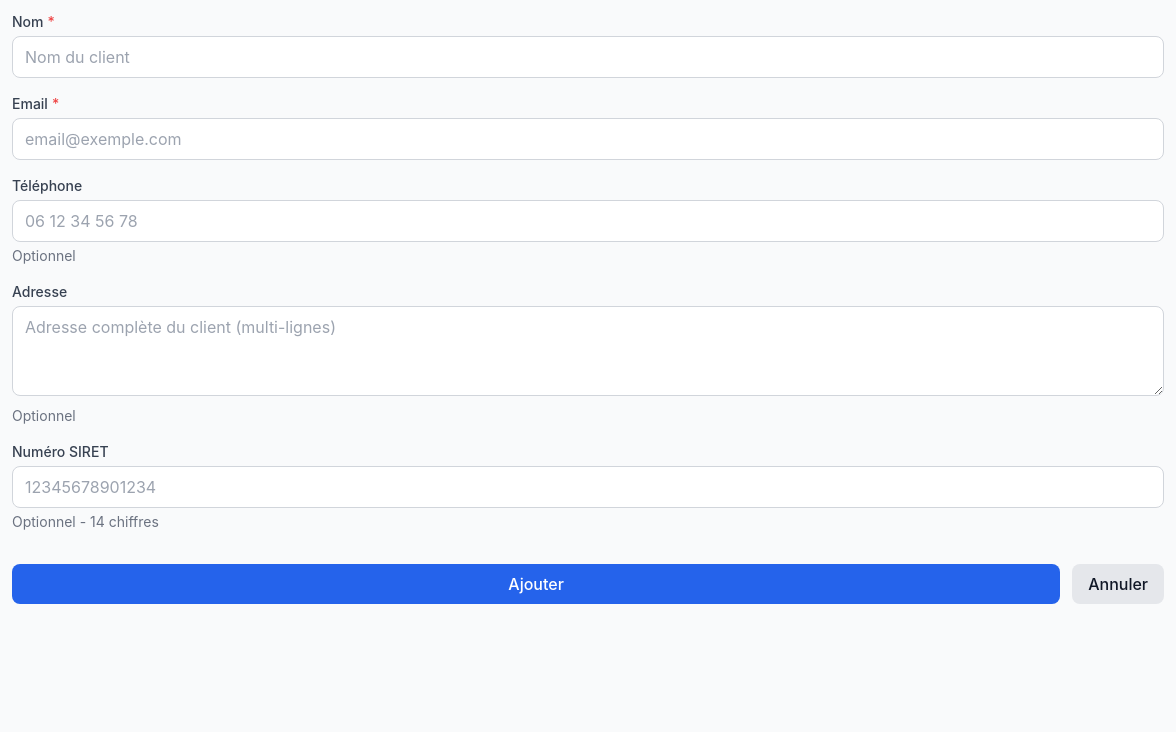
ClientForm › shows required error for empty email on submit
Type "Test Client" into the field with placeholder "Nom du client". click: (588, 57)
box: [12,36,1164,78]
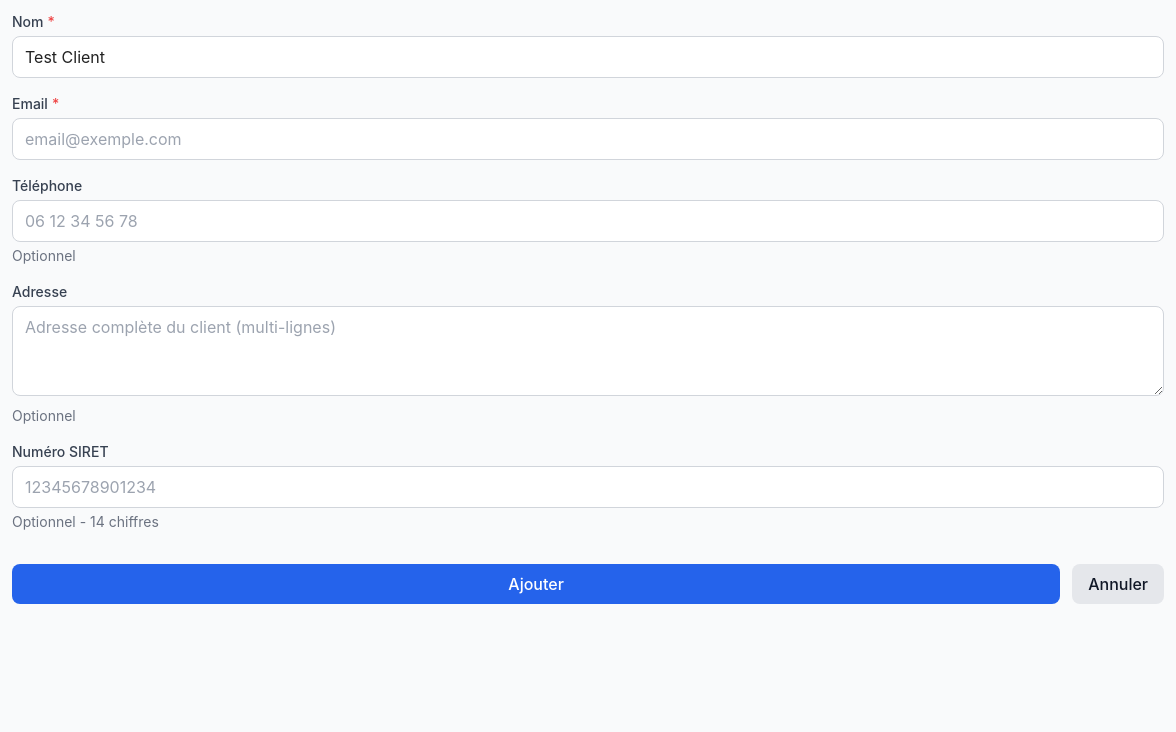
Submit the form named "Ajouter"
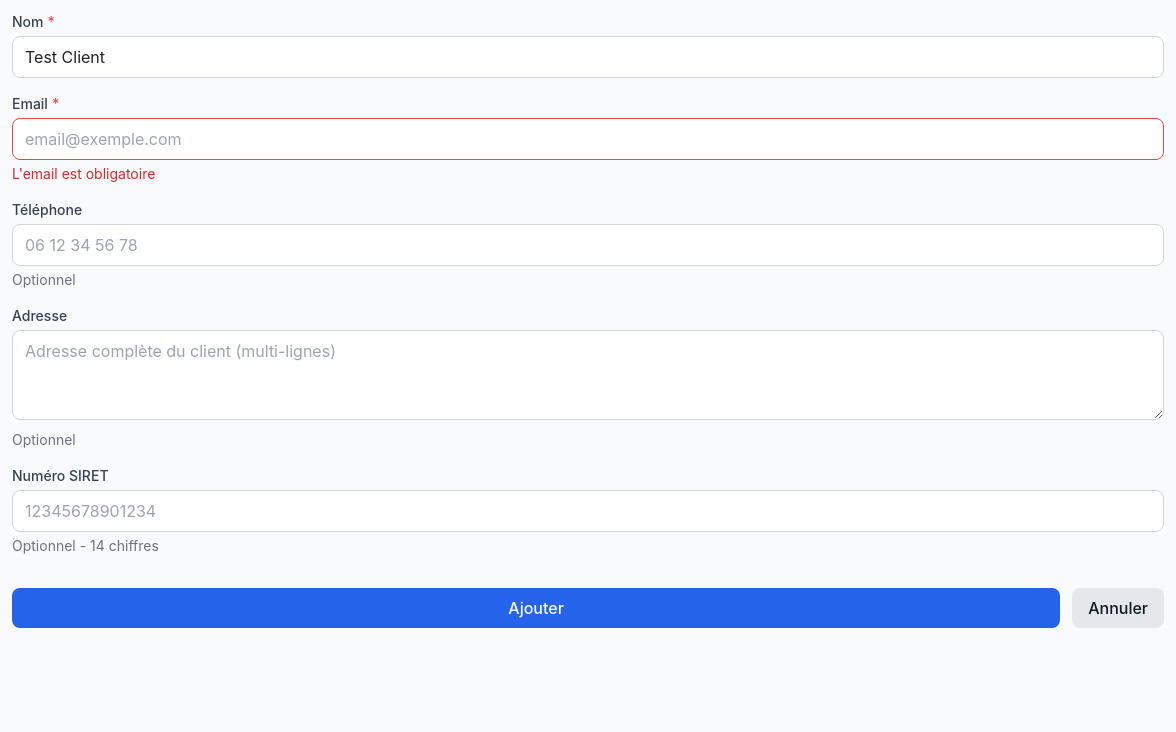
Expected: the text "L'email est obligatoire" is shown, [12,165,155,182]
